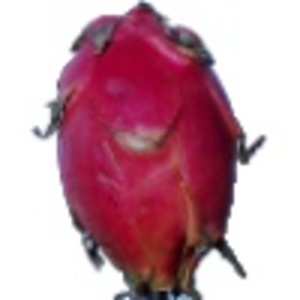pitaia: (32, 1, 265, 300)
